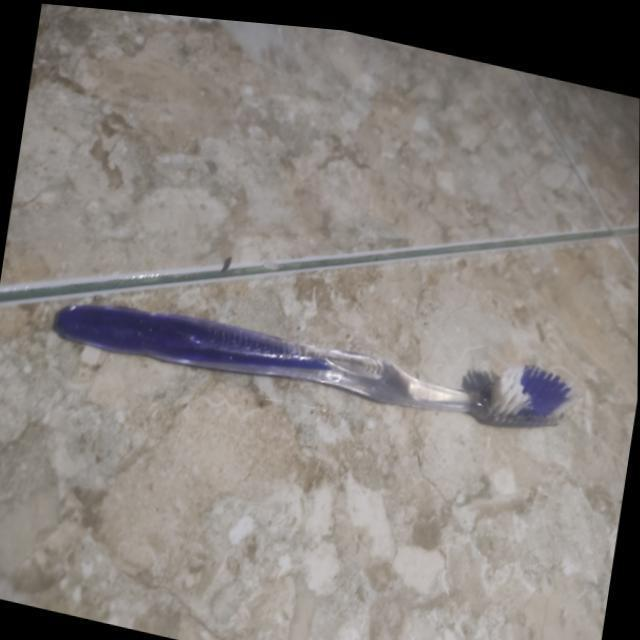toothbrush: (50, 301, 582, 423)
